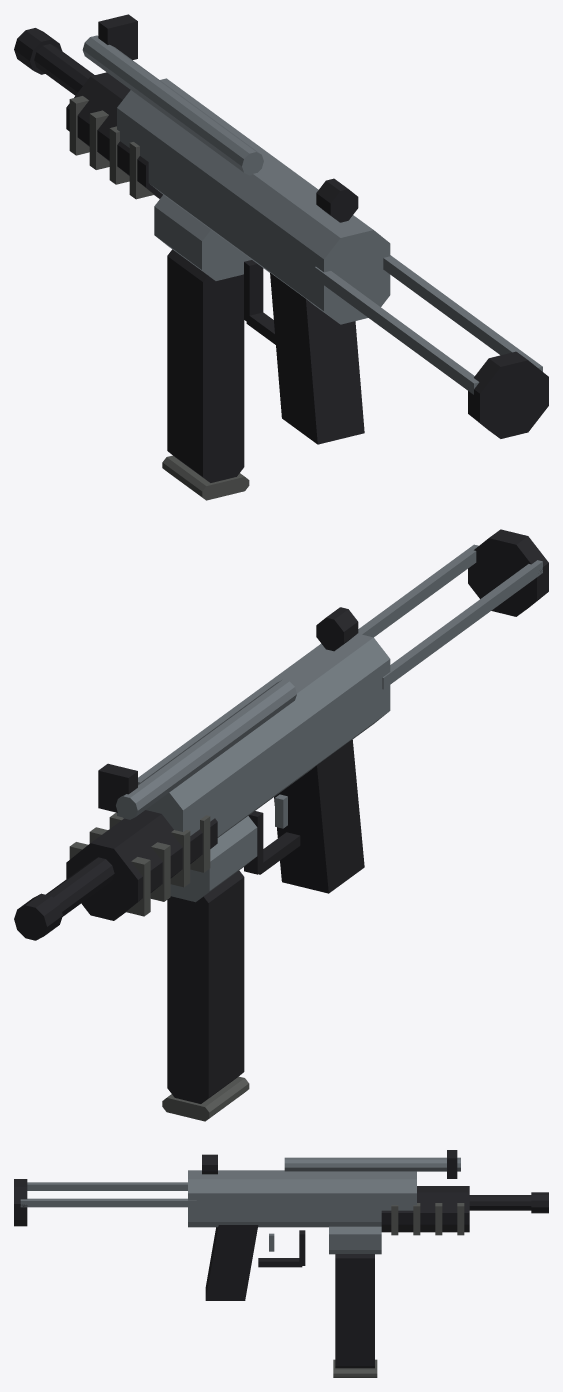
The model's file is smg.glb.
The picture shows the model from 3 angles, top to bottom: view 1: azimuth 30°, elevation 25°; view 2: azimuth 150°, elevation 25°; view 3: azimuth 270°, elevation 25°; orthographic projection. The views are drawn at different scales.
Parts seen in each view (by area): view 1: smg; view 2: smg; view 3: smg.
Part boxes in pixels (x1,y1,x2,y2): smg: (14, 14, 548, 500); smg: (14, 529, 548, 1121); smg: (14, 1150, 548, 1377).
Size of the model in its own units: 0.054 by 0.274 by 0.6075.
1 material, 1 textured.
